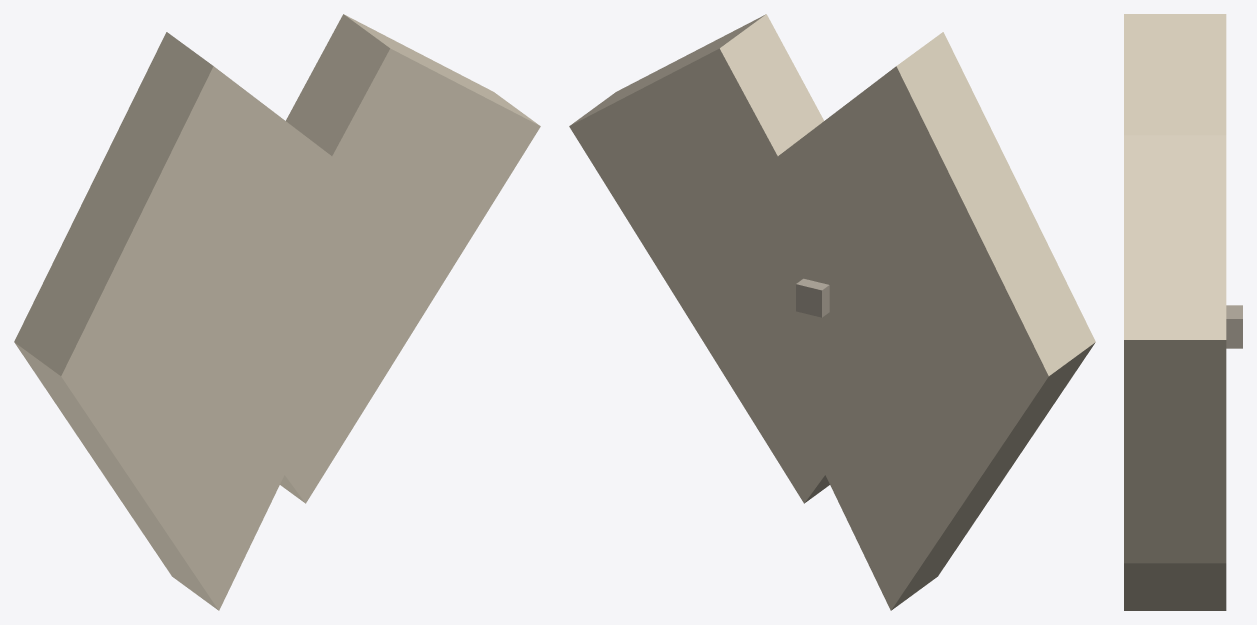
The model's file is historic-palestine-07_20_3491_3142.glb.
3 renders of one model, left to right at view 1: azimuth 30°, elevation 25°; view 2: azimuth 150°, elevation 25°; view 3: azimuth 270°, elevation 25°, orthographic. The views are drawn at different scales.
Parts seen in each view (by area): view 1: Building_; view 2: Building_, Roof access hut; view 3: Building_, Roof access hut.
Boxes of the visible parts, <box> form: Building_: <box>14,14,540,610</box>; Building_: <box>569,14,1095,610</box>; Roof access hut: <box>796,278,829,317</box>; Building_: <box>1124,14,1226,610</box>; Roof access hut: <box>1226,305,1242,348</box>.
Size of the model in its own units: 44.17 by 48.05 by 8.7.
